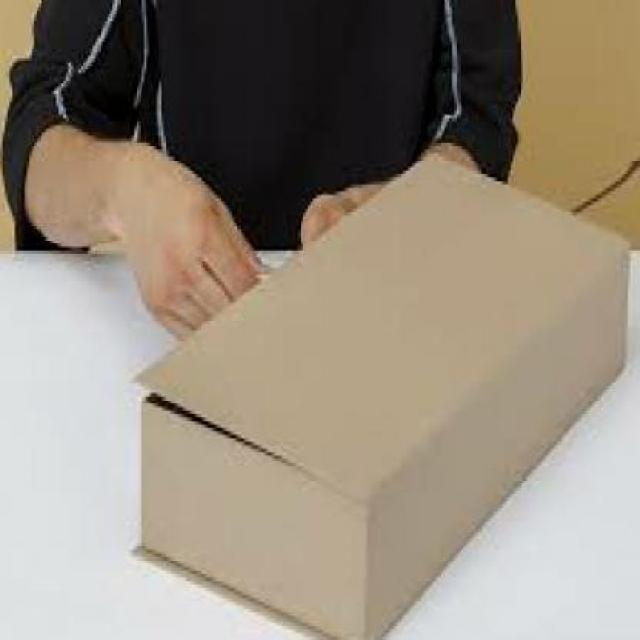-: (123, 153, 629, 640)
